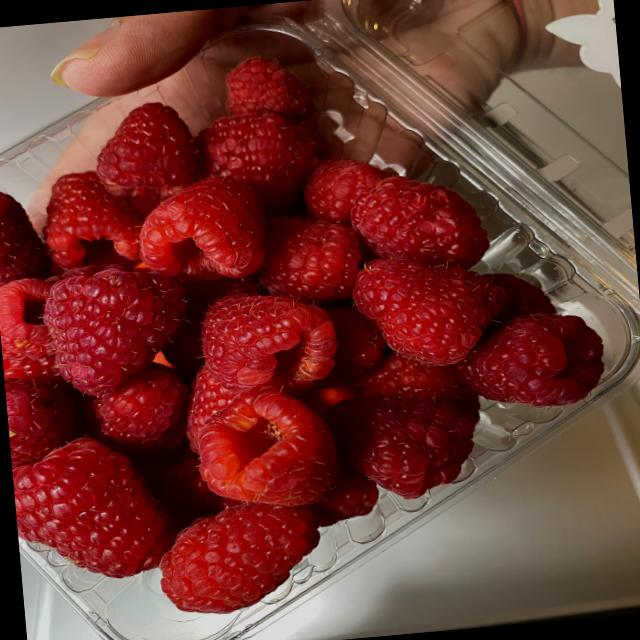raspberries: (13, 61, 556, 602)
